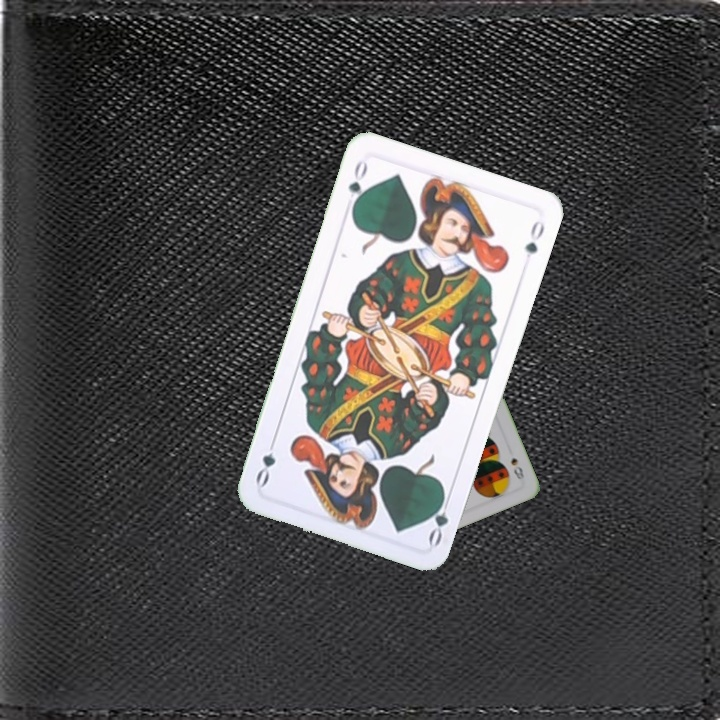GO: (424, 488, 454, 548), (344, 156, 371, 214)
S8: (507, 453, 527, 482)
